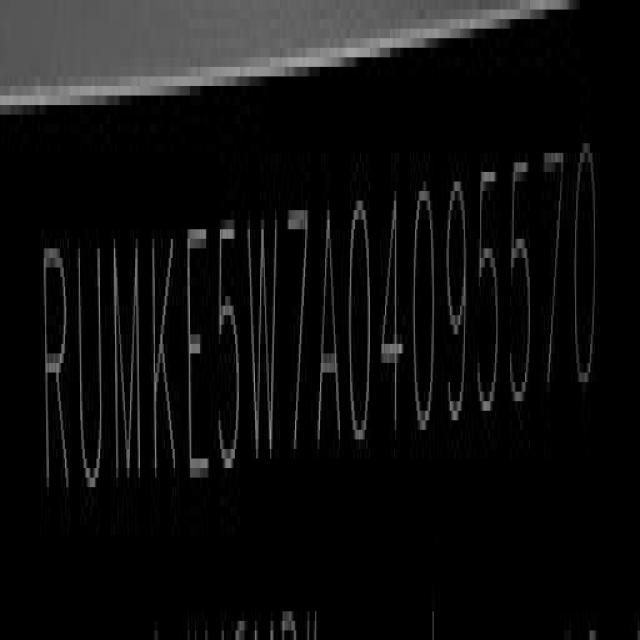0: (573, 138, 600, 407), (411, 180, 437, 432), (349, 190, 374, 450)
4: (383, 185, 408, 449)
5: (215, 213, 241, 479), (509, 147, 533, 416), (478, 158, 502, 422)
7: (541, 138, 566, 403), (288, 200, 312, 468)
9: (446, 174, 472, 433)
A: (317, 199, 343, 462)
E: (187, 225, 210, 493)
K: (150, 234, 180, 481)
M: (112, 230, 142, 492)
R: (44, 243, 71, 503)
U: (77, 245, 104, 498)
W: (247, 208, 281, 476)
